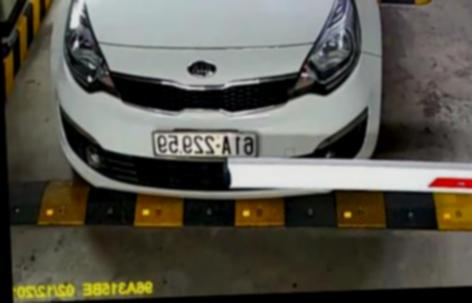License_Plate: (147, 127, 260, 163)
